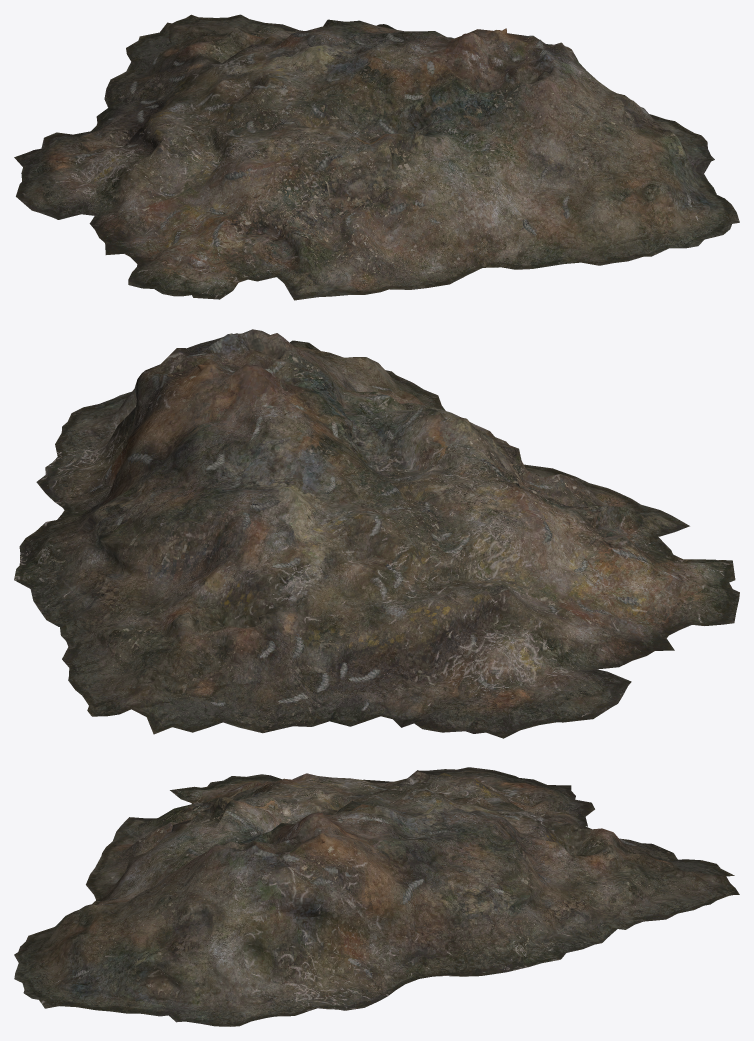
File: sm20_016_filth02a.fbx
The picture shows the model from 3 angles, top to bottom: view 1: azimuth 30°, elevation 25°; view 2: azimuth 150°, elevation 25°; view 3: azimuth 270°, elevation 25°; orthographic projection. The views are drawn at different scales.
Visible parts, largest first — view 1: LOD_1_Group_0_Sub_1__sm20_016_Filth02A_A_Mat__Env_AlphaTest; view 2: LOD_1_Group_0_Sub_1__sm20_016_Filth02A_A_Mat__Env_AlphaTest; view 3: LOD_1_Group_0_Sub_1__sm20_016_Filth02A_A_Mat__Env_AlphaTest.
Boxes of the visible parts, x1,y1,x2,y2 form: LOD_1_Group_0_Sub_1__sm20_016_Filth02A_A_Mat__Env_AlphaTest: (14, 14, 739, 300); LOD_1_Group_0_Sub_1__sm20_016_Filth02A_A_Mat__Env_AlphaTest: (14, 329, 739, 738); LOD_1_Group_0_Sub_1__sm20_016_Filth02A_A_Mat__Env_AlphaTest: (14, 767, 739, 1026).
Size of the model in its own units: 2.44 by 0.5873 by 2.69.
